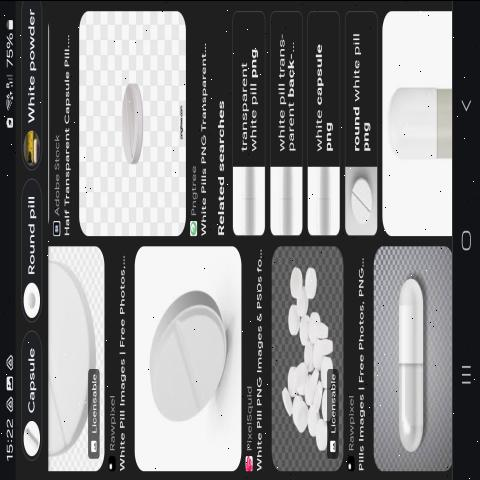Pill: (144, 261, 237, 435), (380, 262, 434, 463), (111, 79, 151, 171), (350, 156, 378, 238)
